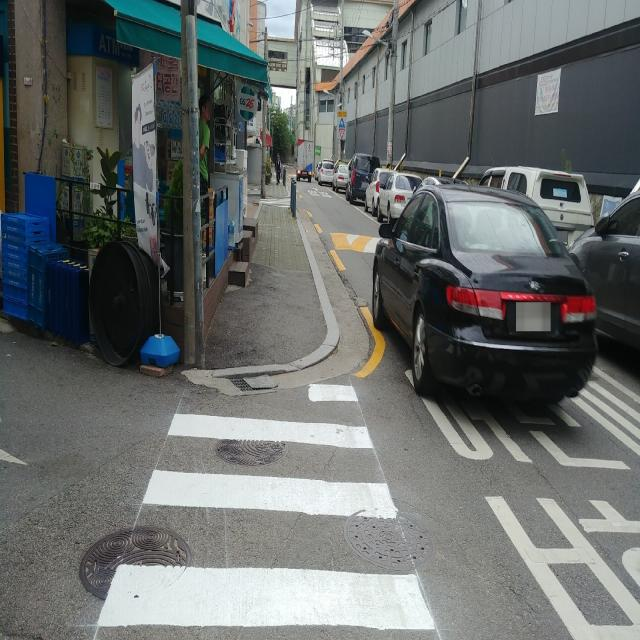횡단보도: (95, 382, 437, 634)
